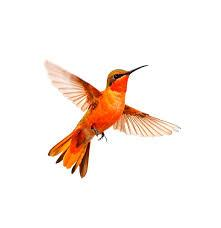non-mango: (42, 58, 181, 178)
